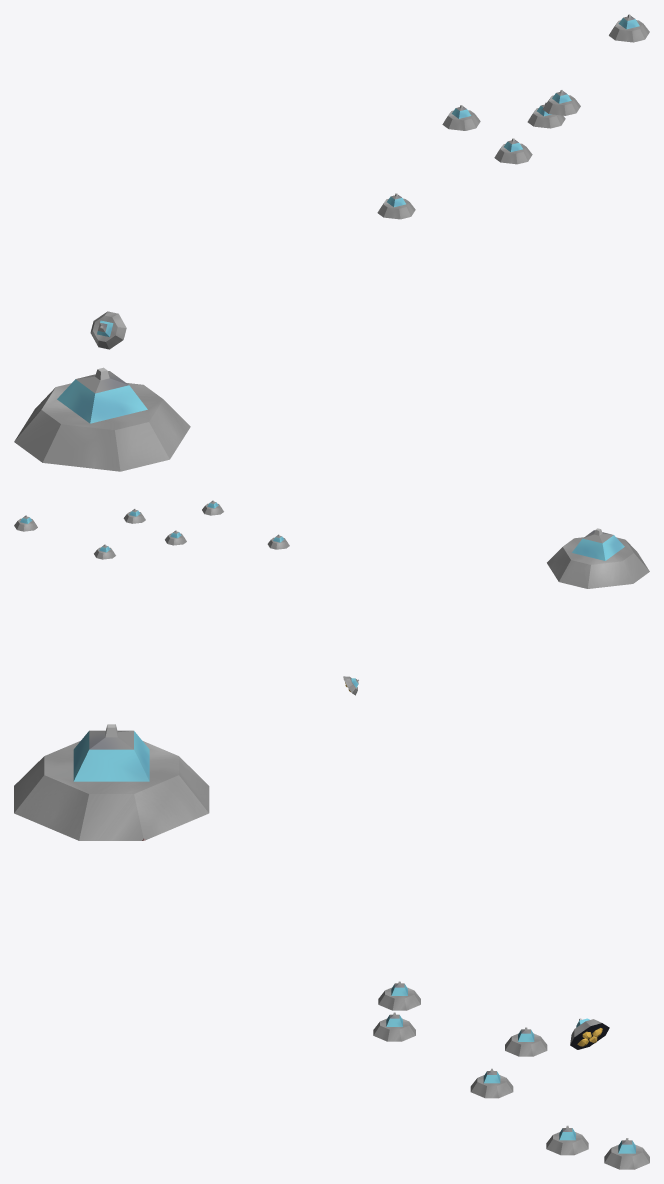
Rendered from MountainUFO.obj.
3 renders of one model, top to bottom at view 1: azimuth 30°, elevation 25°; view 2: azimuth 150°, elevation 25°; view 3: azimuth 270°, elevation 25°, orthographic. The views are drawn at different scales.
Visible parts, largest first — view 1: Cube.007; view 2: Cube.007; view 3: Cube.007.
Part boxes in pixels (x1=…): Cube.007: x1=14, y1=14, x2=649, y2=471; Cube.007: x1=14, y1=500, x2=649, y2=695; Cube.007: x1=14, y1=724, x2=649, y2=1169.
Bounding box in the file's own units: 2423 × 523 × 1386.
1 material, 1 textured.
